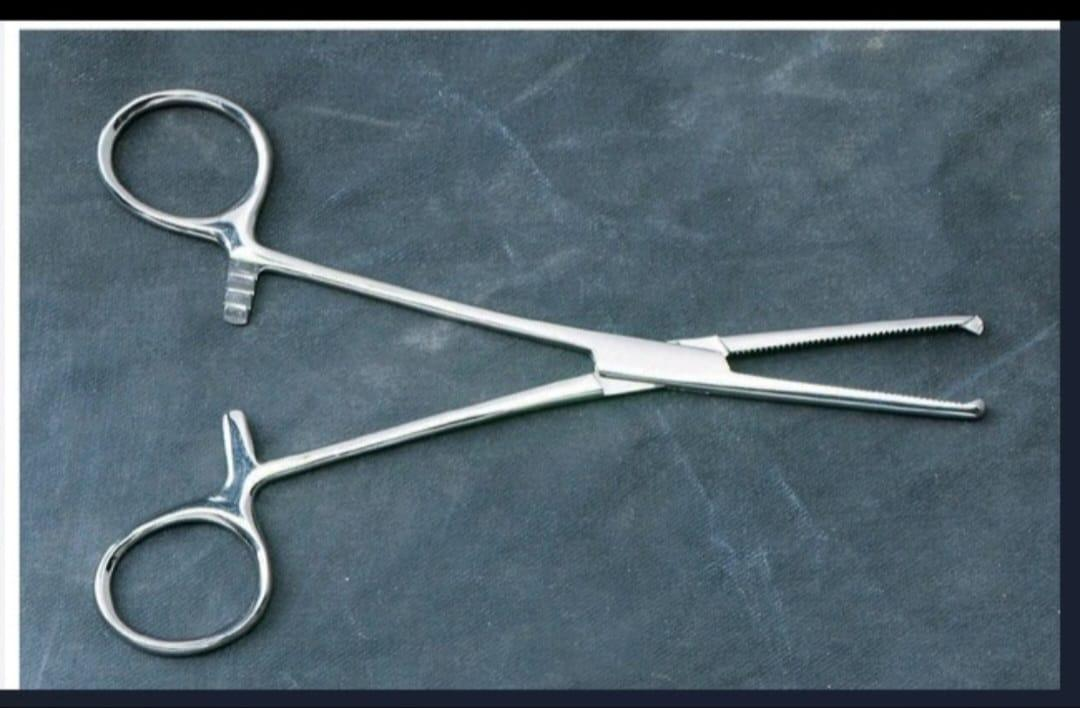Kocher Forceps: (82, 79, 991, 660)
